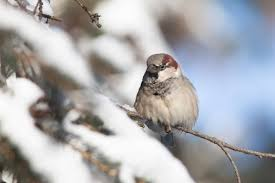hsparrow: (129, 52, 204, 141)
